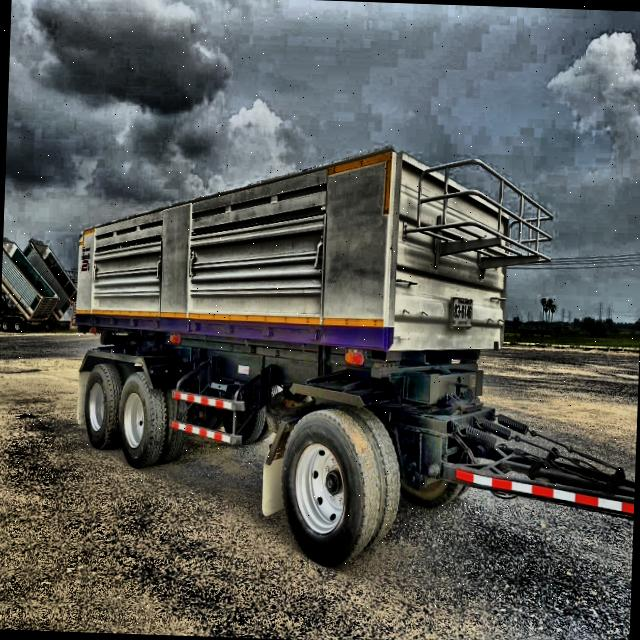trailer: (50, 129, 640, 564)
